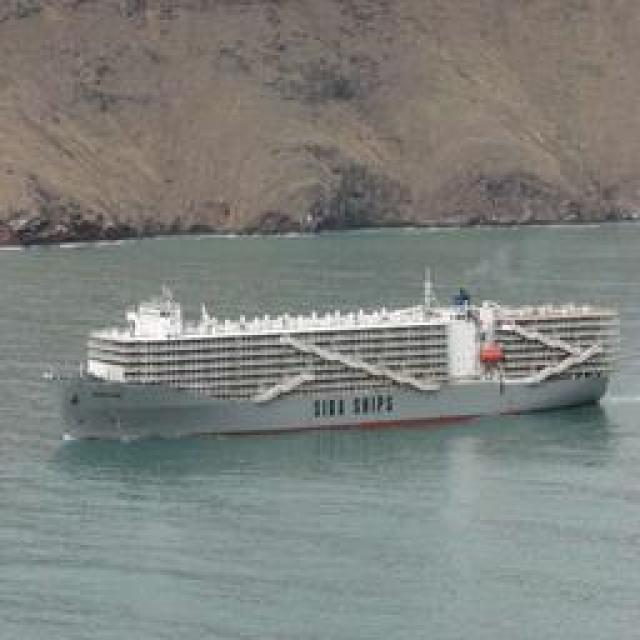CIV_Ship: (59, 282, 616, 442)
